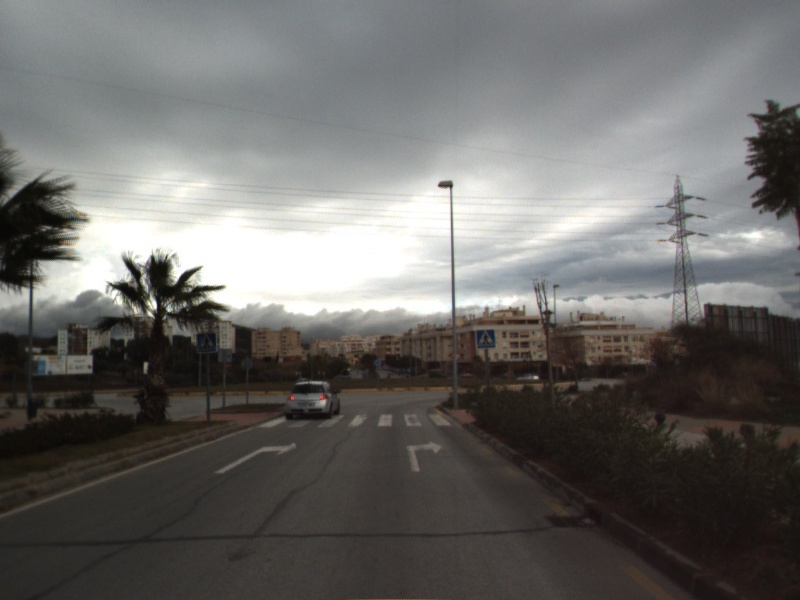RIGHT: (212, 440, 299, 475), (404, 438, 445, 474)
